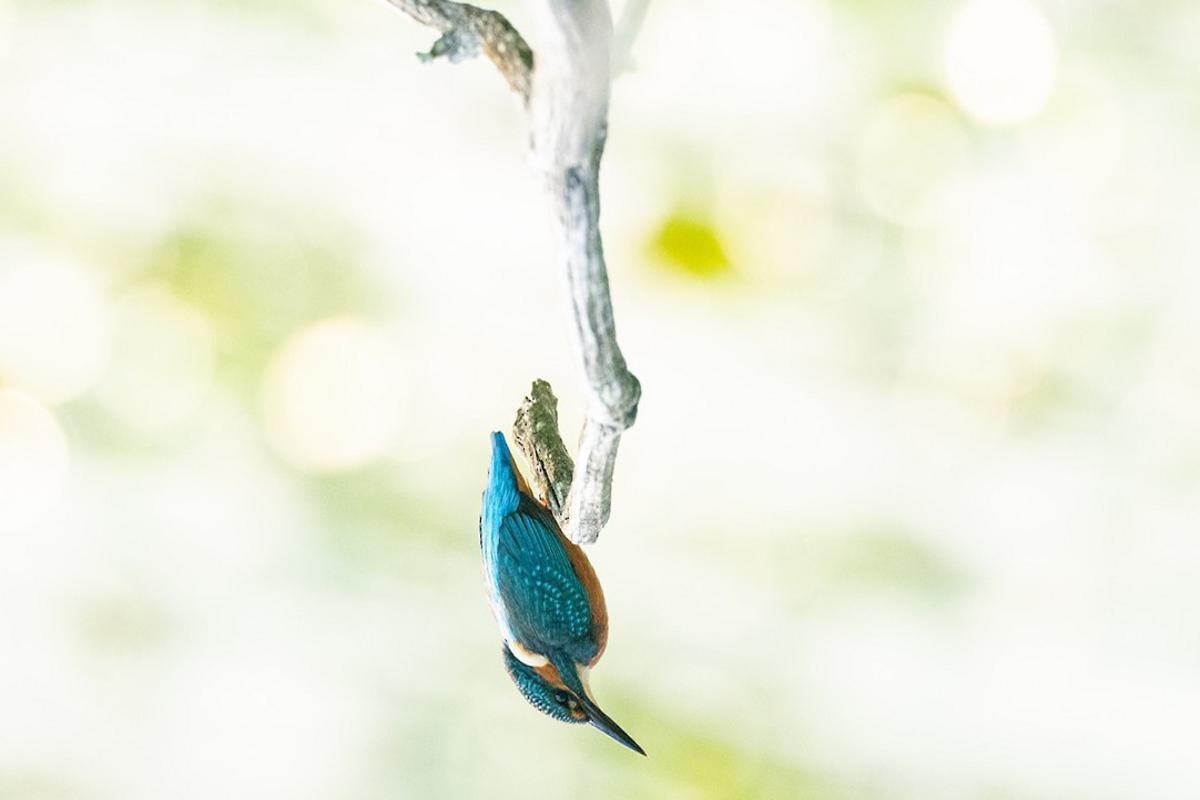kingfisher: (473, 418, 645, 765)
